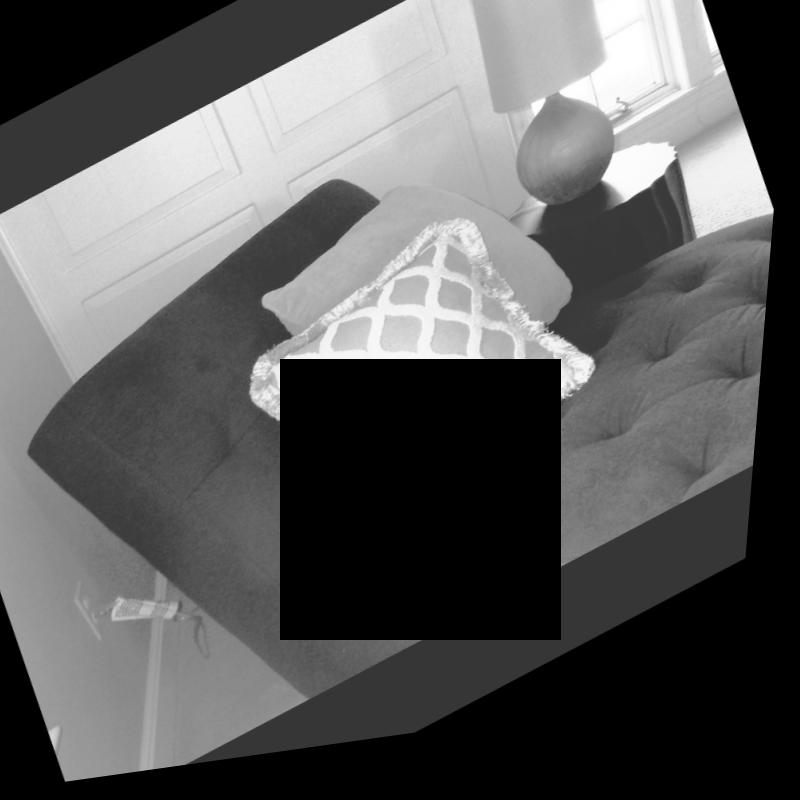pillow: (222, 182, 638, 601), (232, 126, 603, 482)
